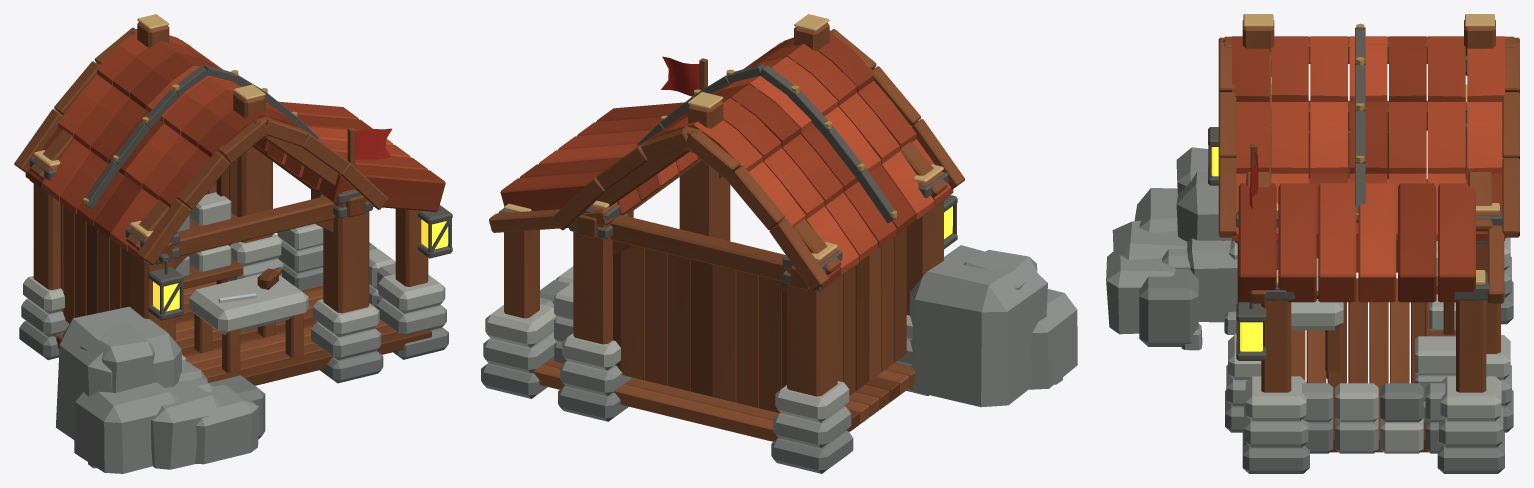
The picture shows the model from 3 angles, left to right: view 1: azimuth 30°, elevation 25°; view 2: azimuth 150°, elevation 25°; view 3: azimuth 270°, elevation 25°; orthographic projection. The views are drawn at different scales.
Parts seen in each view (by area): view 1: Rootbound Hall · evaluated preview mesh; view 2: Rootbound Hall · evaluated preview mesh; view 3: Rootbound Hall · evaluated preview mesh.
Part boxes in pixels (box(x1,y1,x2,y2)): Rootbound Hall · evaluated preview mesh: box(14, 14, 452, 473); Rootbound Hall · evaluated preview mesh: box(481, 14, 1077, 473); Rootbound Hall · evaluated preview mesh: box(1106, 14, 1519, 473).
Bounding box in the file's own units: 5.85 × 4.36 × 4.67.
